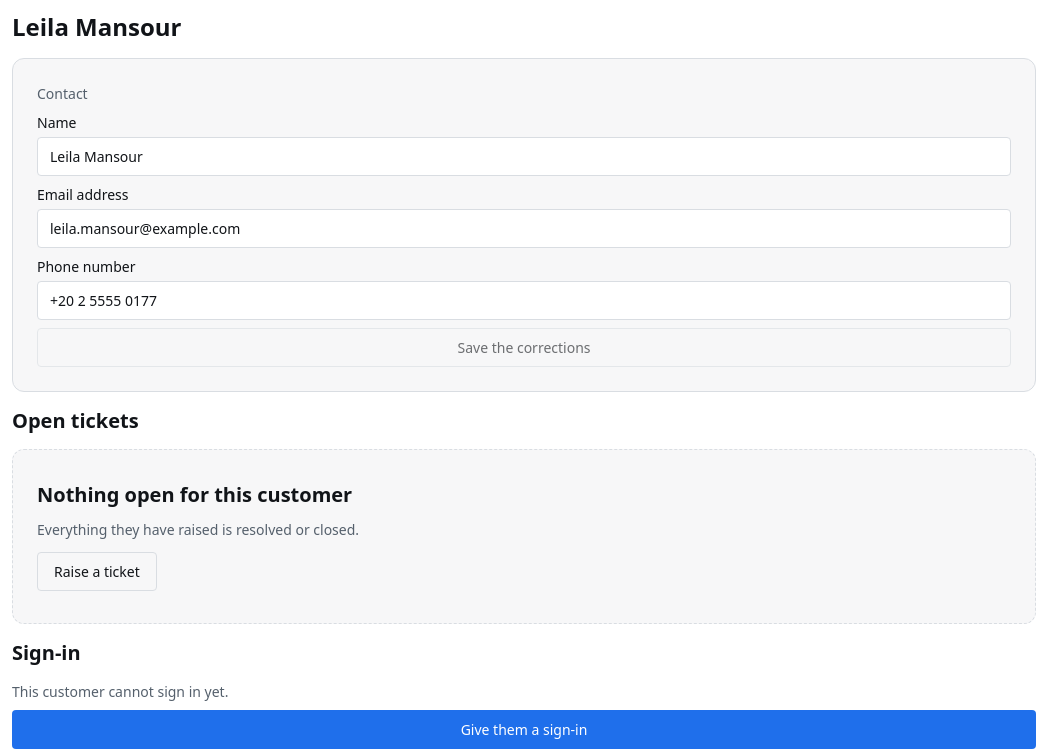
it: a refusal that names no field is reported as one
Type "x" into the field labelled "Name" at (524, 156), box [37, 137, 1011, 176]
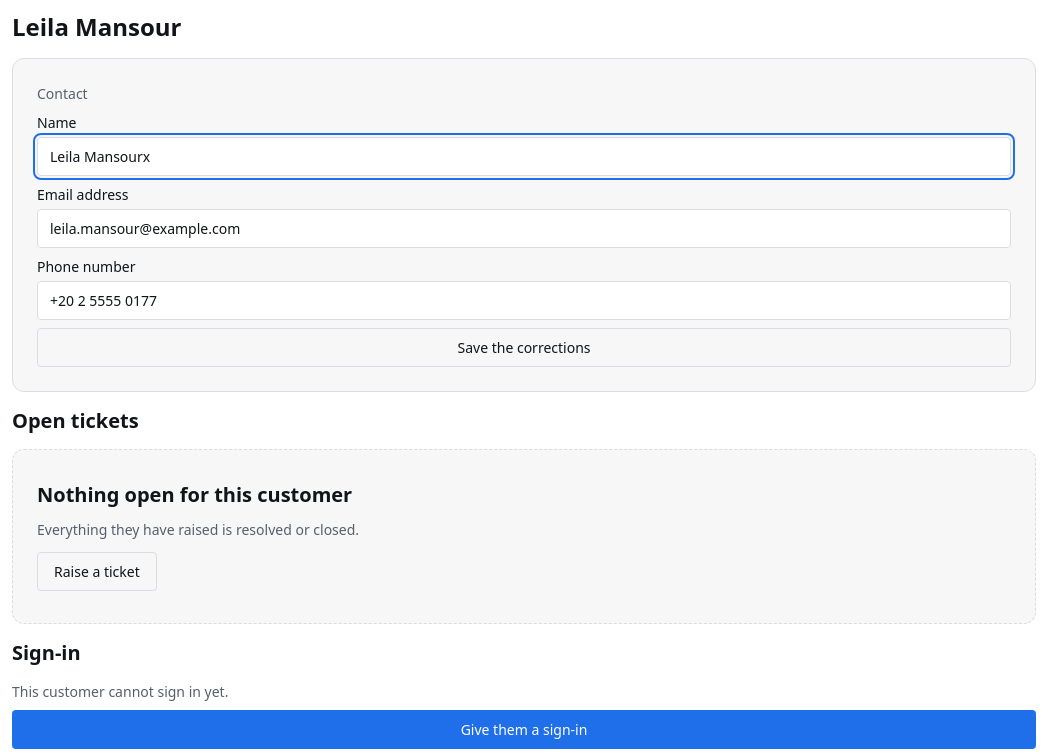
Click the button "Save the corrections" at (524, 348), box [37, 328, 1011, 367]
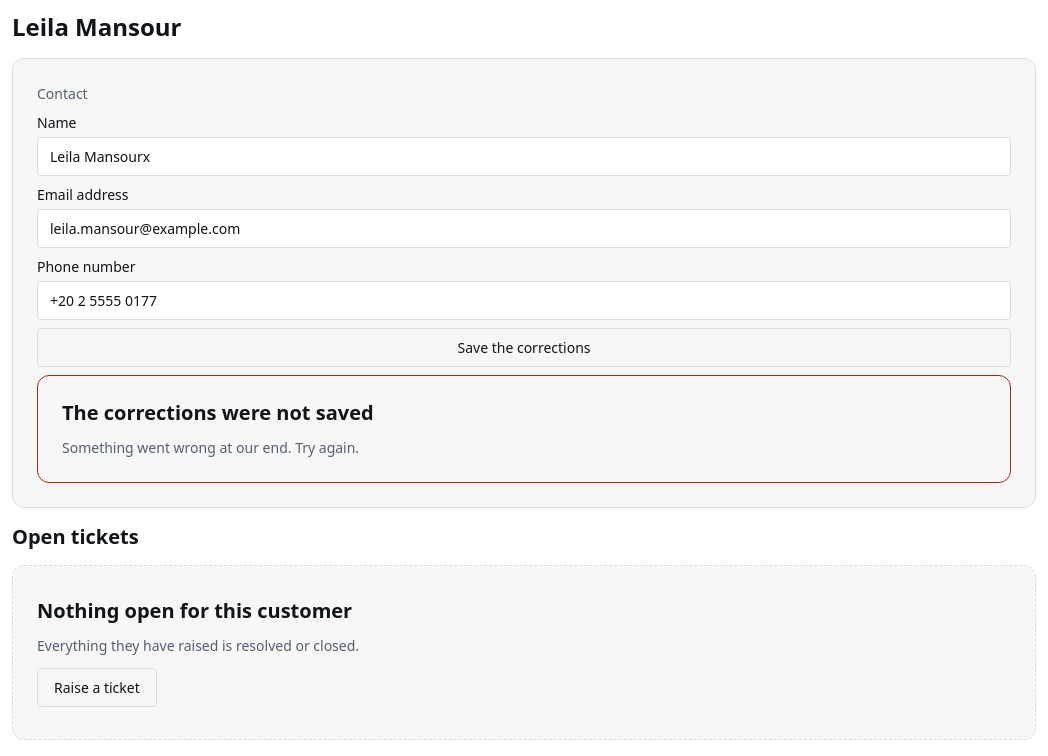
Expected: the heading "The corrections were not saved" is shown, [62, 399, 374, 426]
Expected: the text "Something went wrong at our end. Try again." is shown, [62, 438, 359, 457]
